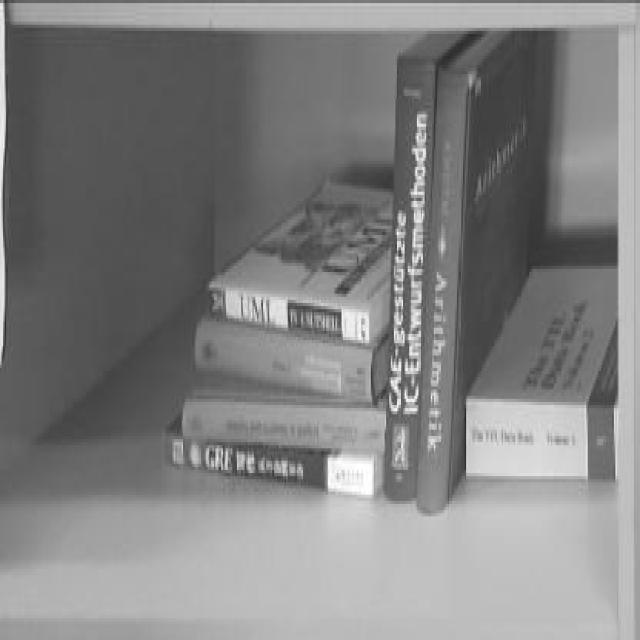book: (416, 28, 562, 514), (470, 265, 622, 480), (165, 343, 374, 459), (384, 23, 435, 496)
